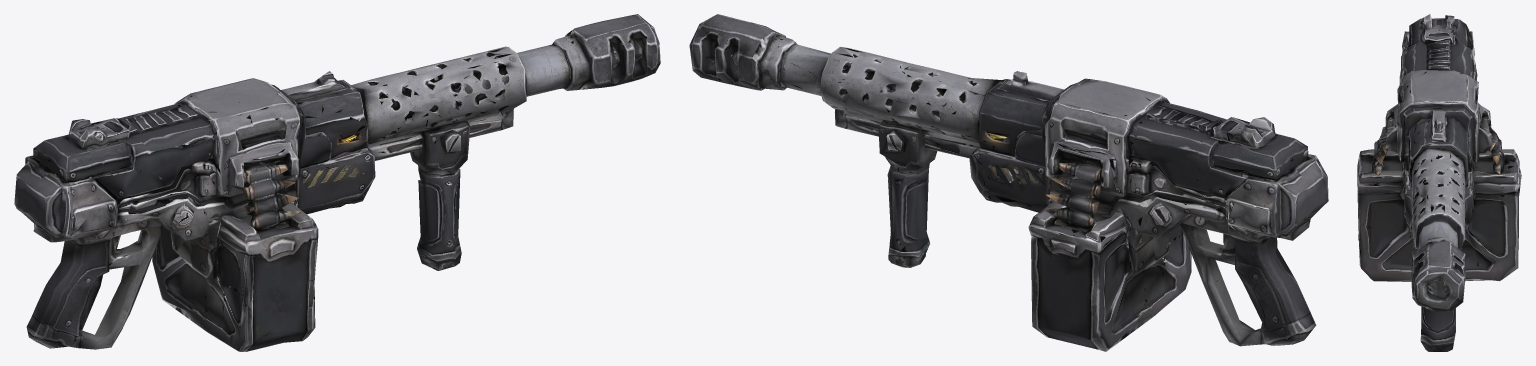
The model's file is goliath_gun.glb.
The picture shows the model from 3 angles, left to right: view 1: azimuth 30°, elevation 25°; view 2: azimuth 150°, elevation 25°; view 3: azimuth 270°, elevation 25°; orthographic projection. The views are drawn at different scales.
Visible parts, largest first — view 1: tripo_part_0; view 2: tripo_part_0; view 3: tripo_part_0.
Boxes of the visible parts, bbox=[...] form: tripo_part_0: bbox=[14, 14, 660, 351]; tripo_part_0: bbox=[689, 14, 1328, 351]; tripo_part_0: bbox=[1357, 14, 1521, 351].
Size of the model in its own units: 0.9795 by 0.3515 by 0.2702.
Materials: 1 (1 with a texture image).
